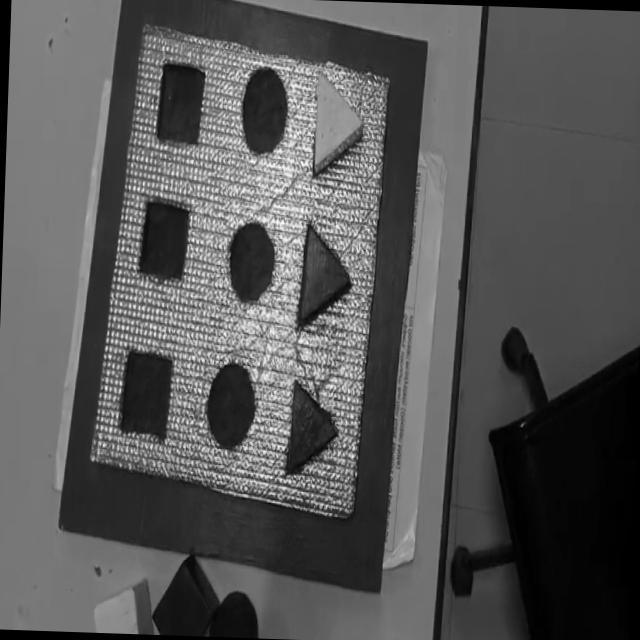bcircle: (208, 590, 258, 637)
btriangle: (285, 381, 337, 473)
mtcircle: (203, 362, 257, 451), (238, 67, 288, 157), (225, 220, 276, 304)
mtcube: (118, 346, 174, 441), (137, 198, 190, 284), (155, 61, 206, 148)
rcube: (152, 554, 217, 636)
rtriangle: (298, 225, 350, 325)
wb: (90, 19, 392, 522)
ycube: (94, 580, 152, 634)
ytriangle: (310, 72, 366, 178)
